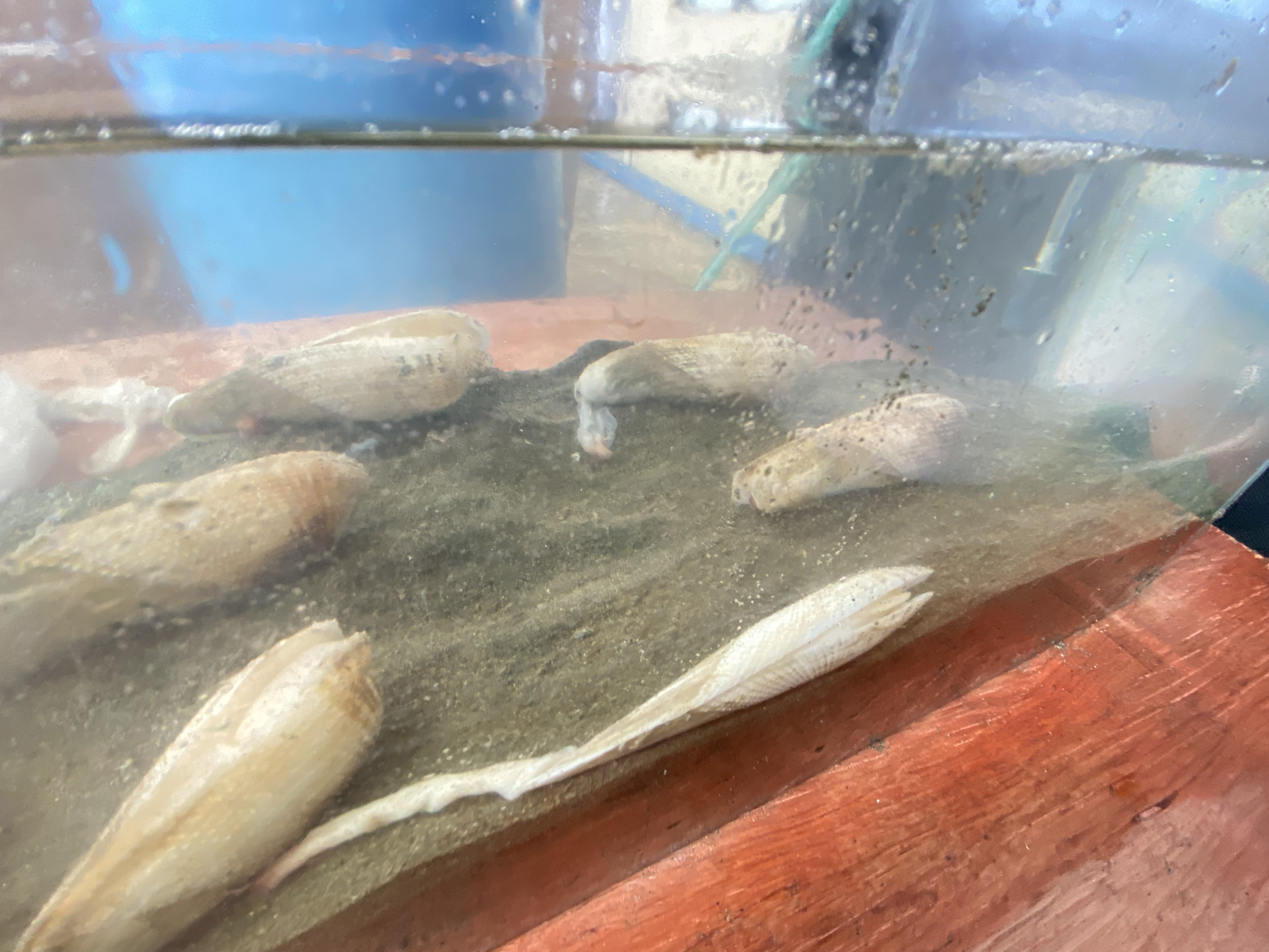At risk: (259, 566, 932, 889), (16, 620, 382, 952), (167, 310, 489, 435), (574, 331, 814, 458), (732, 394, 966, 512)
